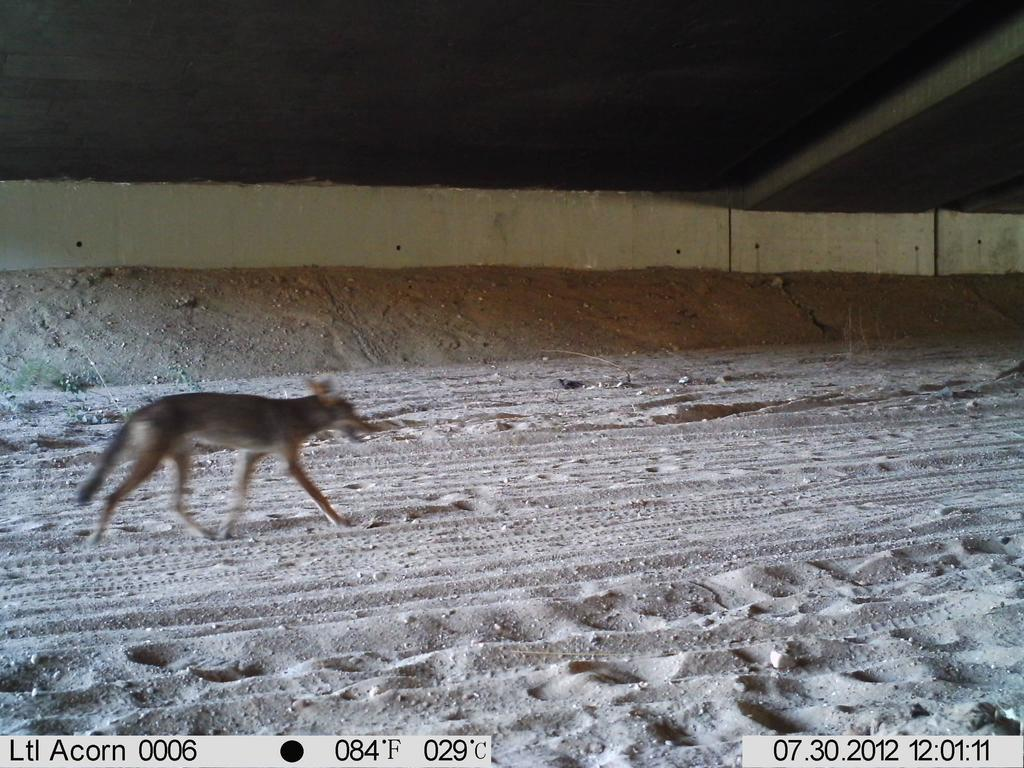coyote: (54, 367, 374, 551)
